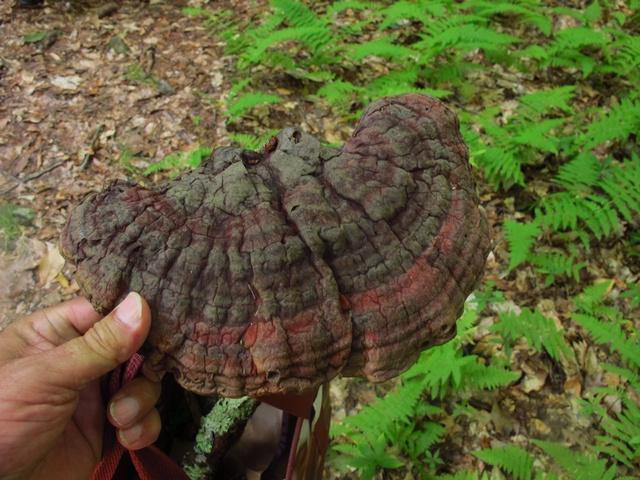Non-edible Mushroom: (61, 93, 511, 403)
